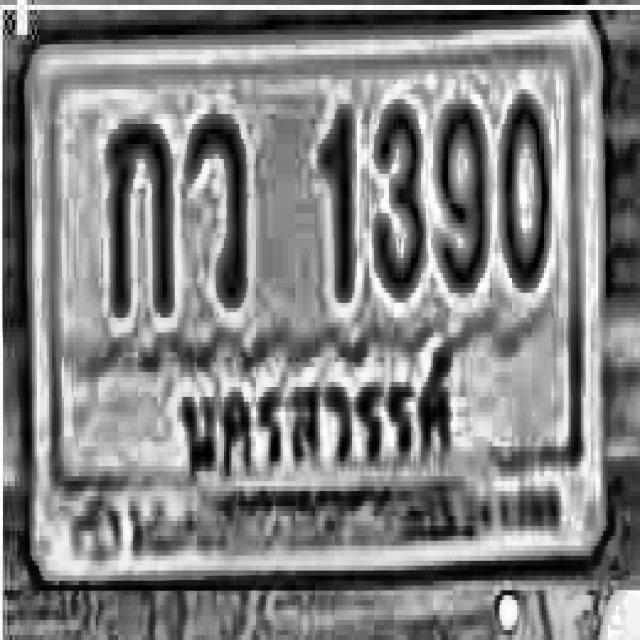license-plate: (26, 4, 608, 592)
